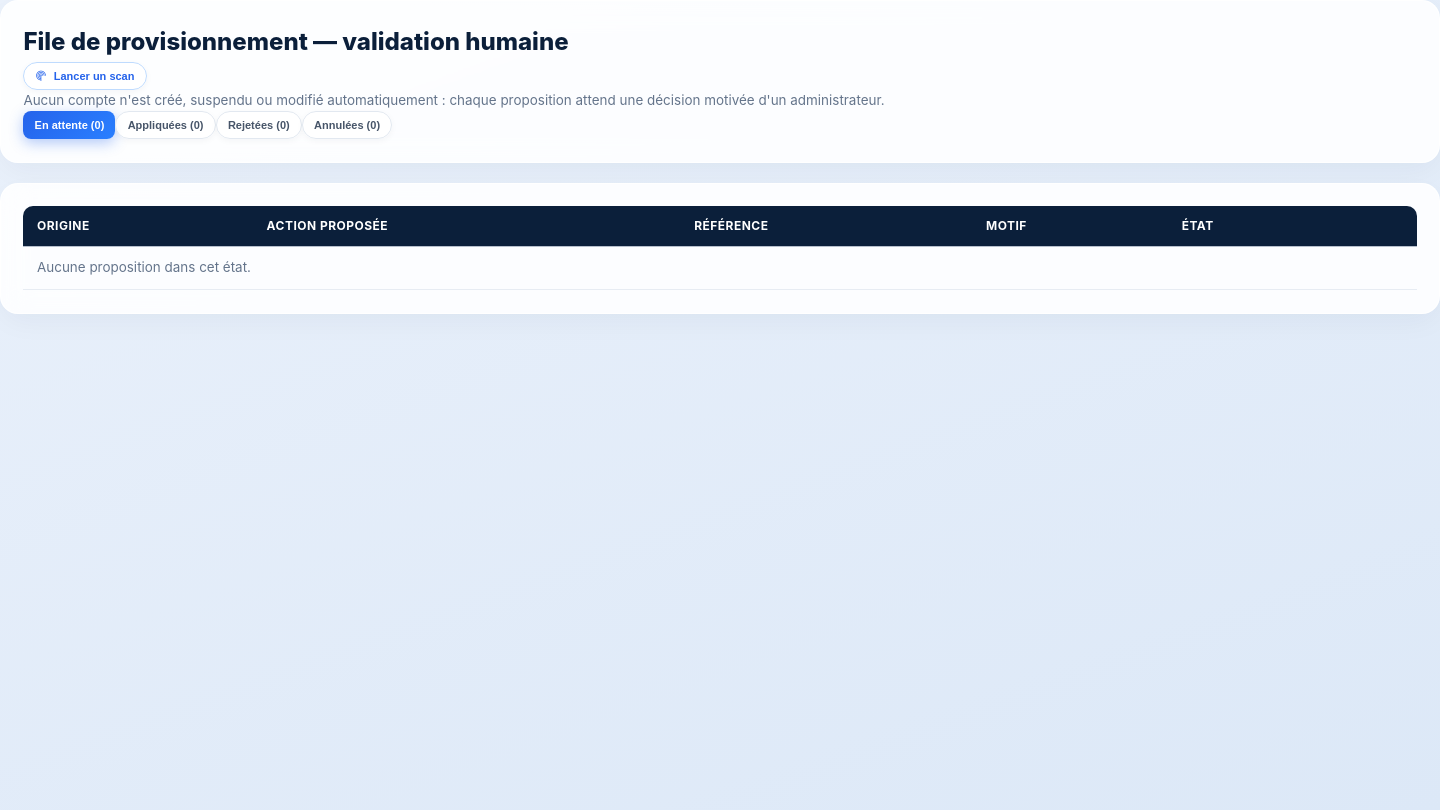
Test: FileProvisionnement (U5) › le scan manuel affiche le bilan renvoyé par le serveur
Step 1. Click the button with test id "bouton-scan" → (85, 76), box [23, 62, 147, 90]
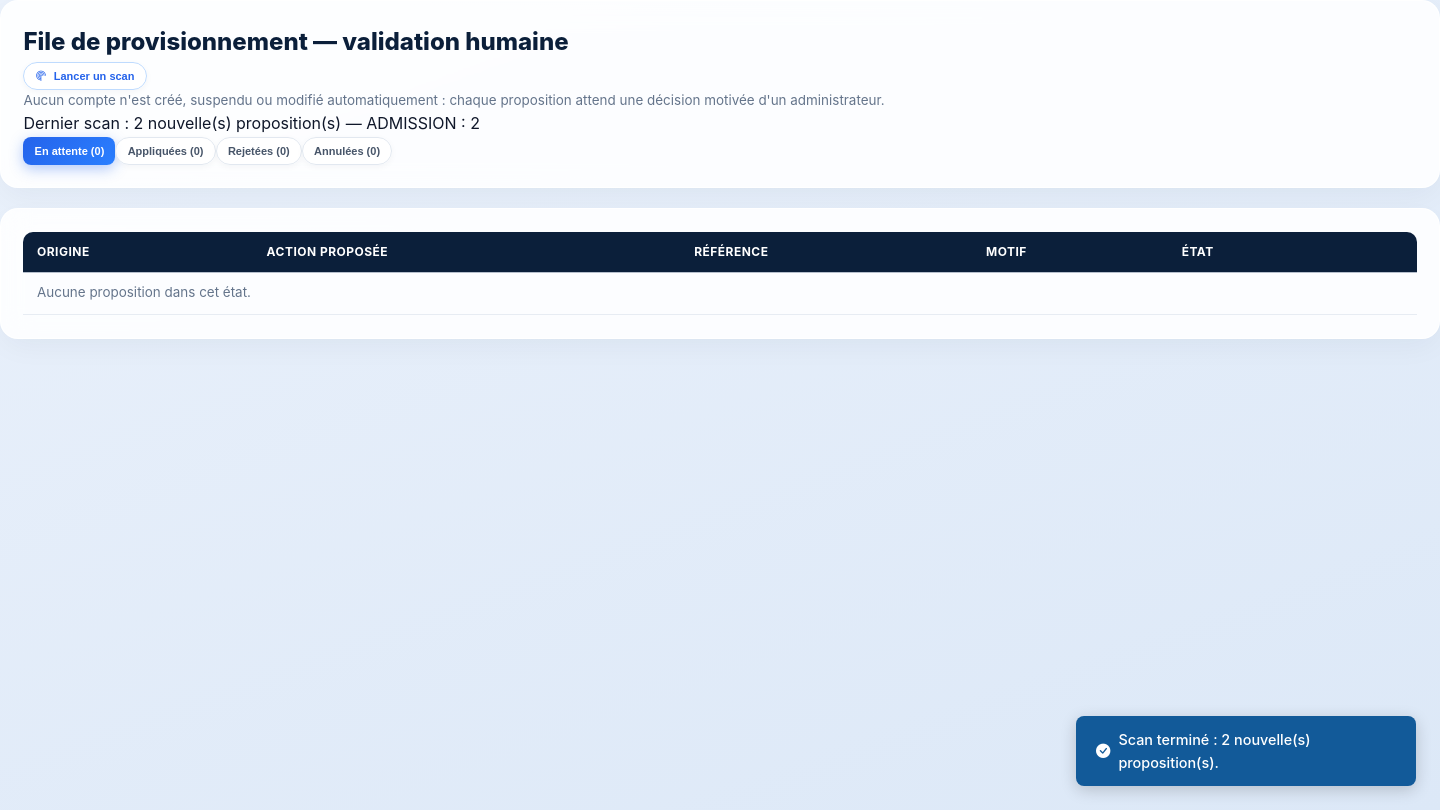
Expected: the text with test id "bilan-scan" shows "ADMISSION : 2", [366, 113, 480, 133]
